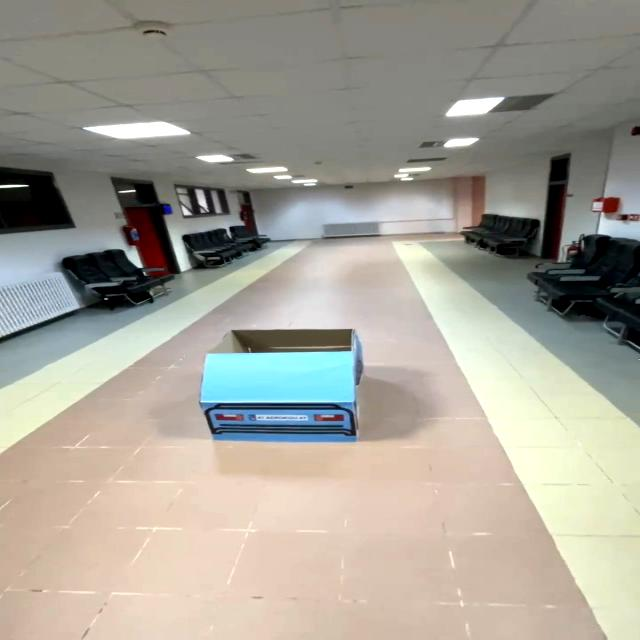blue_car: (171, 306, 388, 469)
